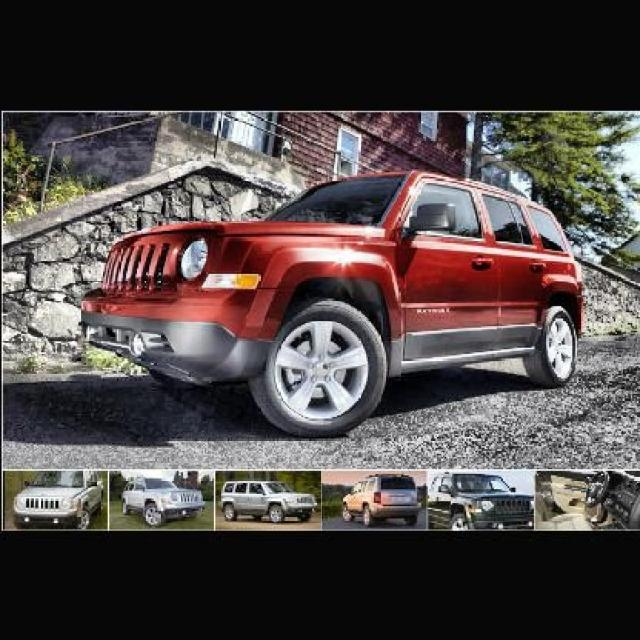maroon: (82, 172, 584, 442)
